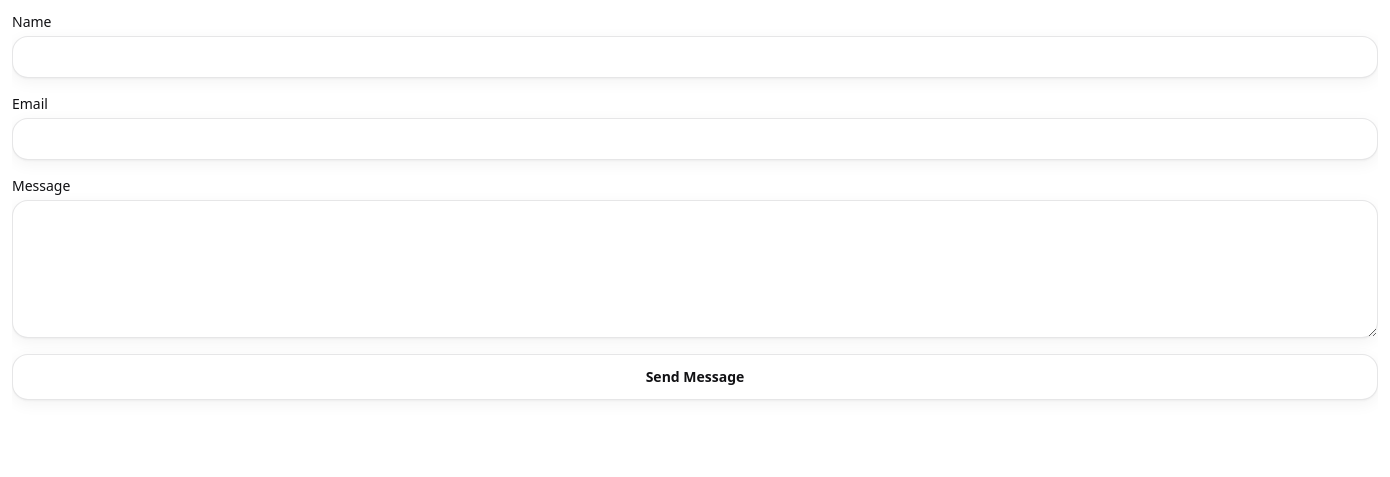
Test: ContactForm › shows validation errors instead of submitting when fields are empty
What coordinates should you click on to do the following:
click the button "Send Message"
I would click on:
 (695, 377)
Its box is [12,354,1378,400].
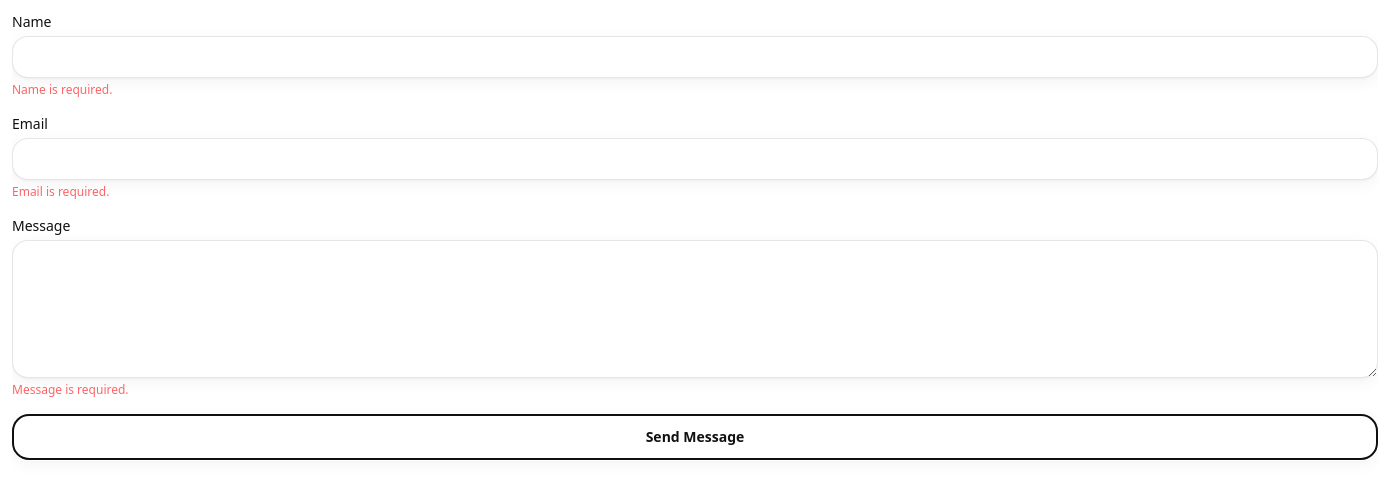
Expected: the text "Name is required." is shown, [12,81,112,98]
